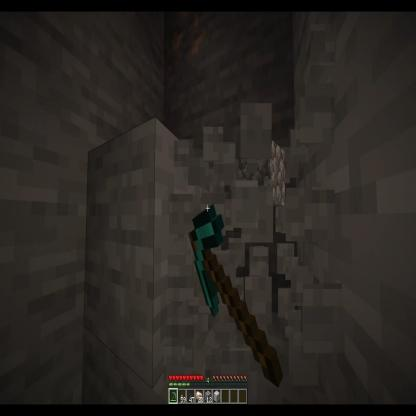iron ore: (163, 0, 212, 83)
